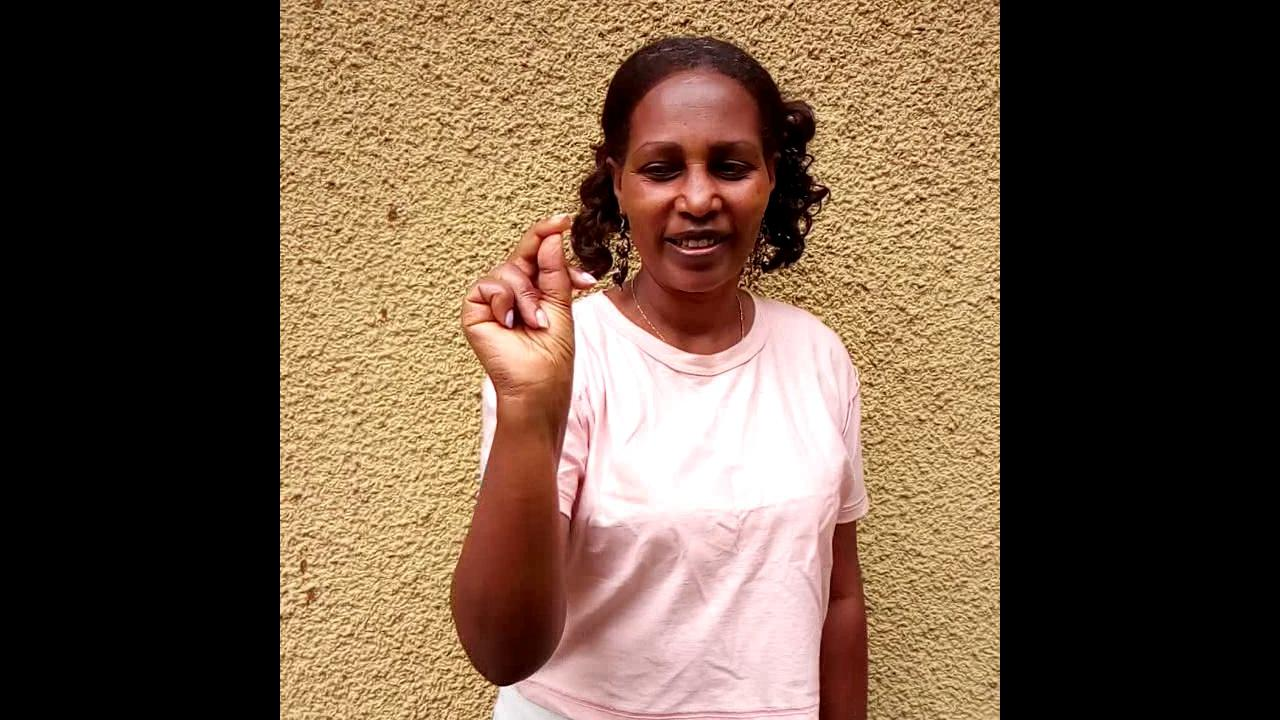CHE: (458, 211, 595, 492)
